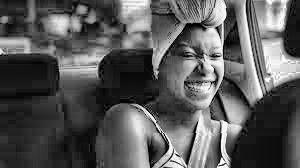happy: (157, 8, 233, 133)
